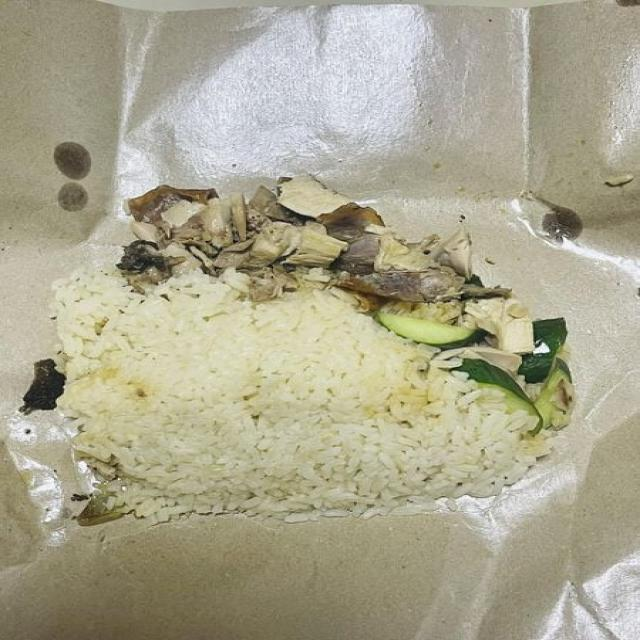Chicken: (127, 176, 469, 301)
Green veg: (375, 313, 570, 433)
Rice: (55, 270, 553, 518)
